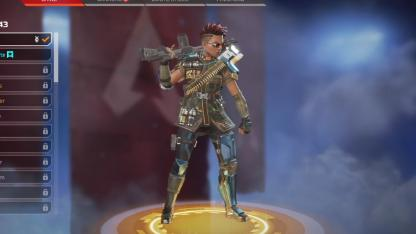Target: (179, 23, 237, 168)
